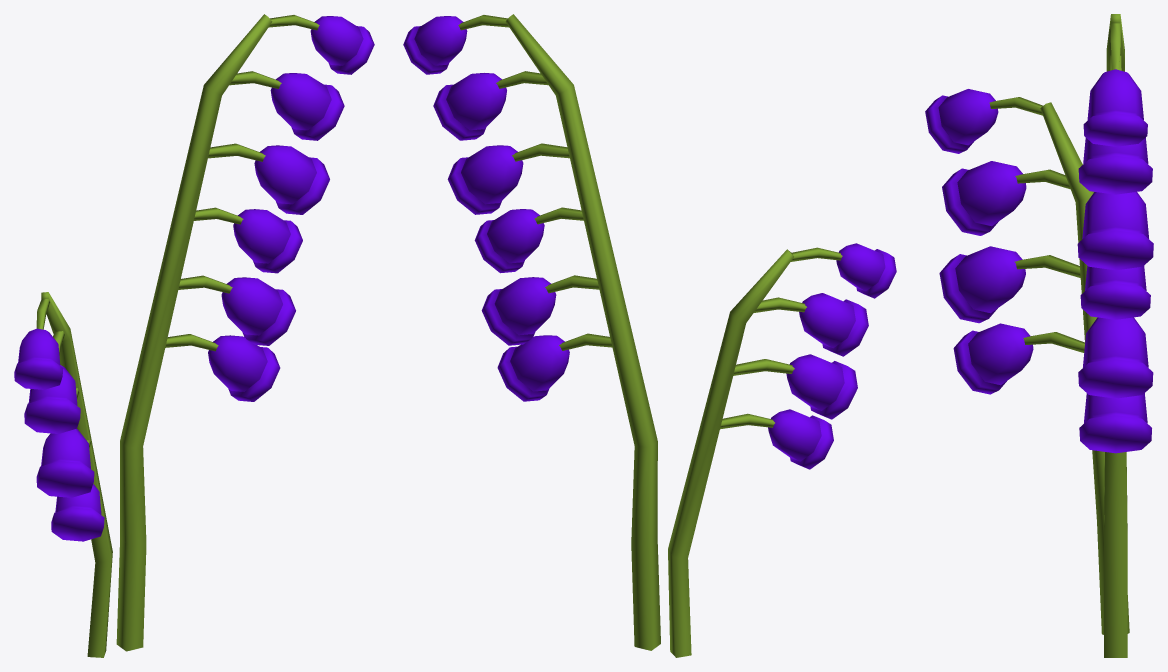
File: Flower_29.fbx
3 views of the same model, side by side, from view 1: azimuth 30°, elevation 25°; view 2: azimuth 150°, elevation 25°; view 3: azimuth 270°, elevation 25° (orthographic). The views are drawn at different scales.
Visible parts, largest first — view 1: Flower_29; view 2: Flower_29; view 3: Flower_29.
Part boxes in pixels (x1,y1,x2,y2): Flower_29: [14, 14, 374, 657]; Flower_29: [403, 14, 896, 657]; Flower_29: [925, 14, 1153, 657].
Size of the model in its own units: 95.68 by 130 by 37.43.
